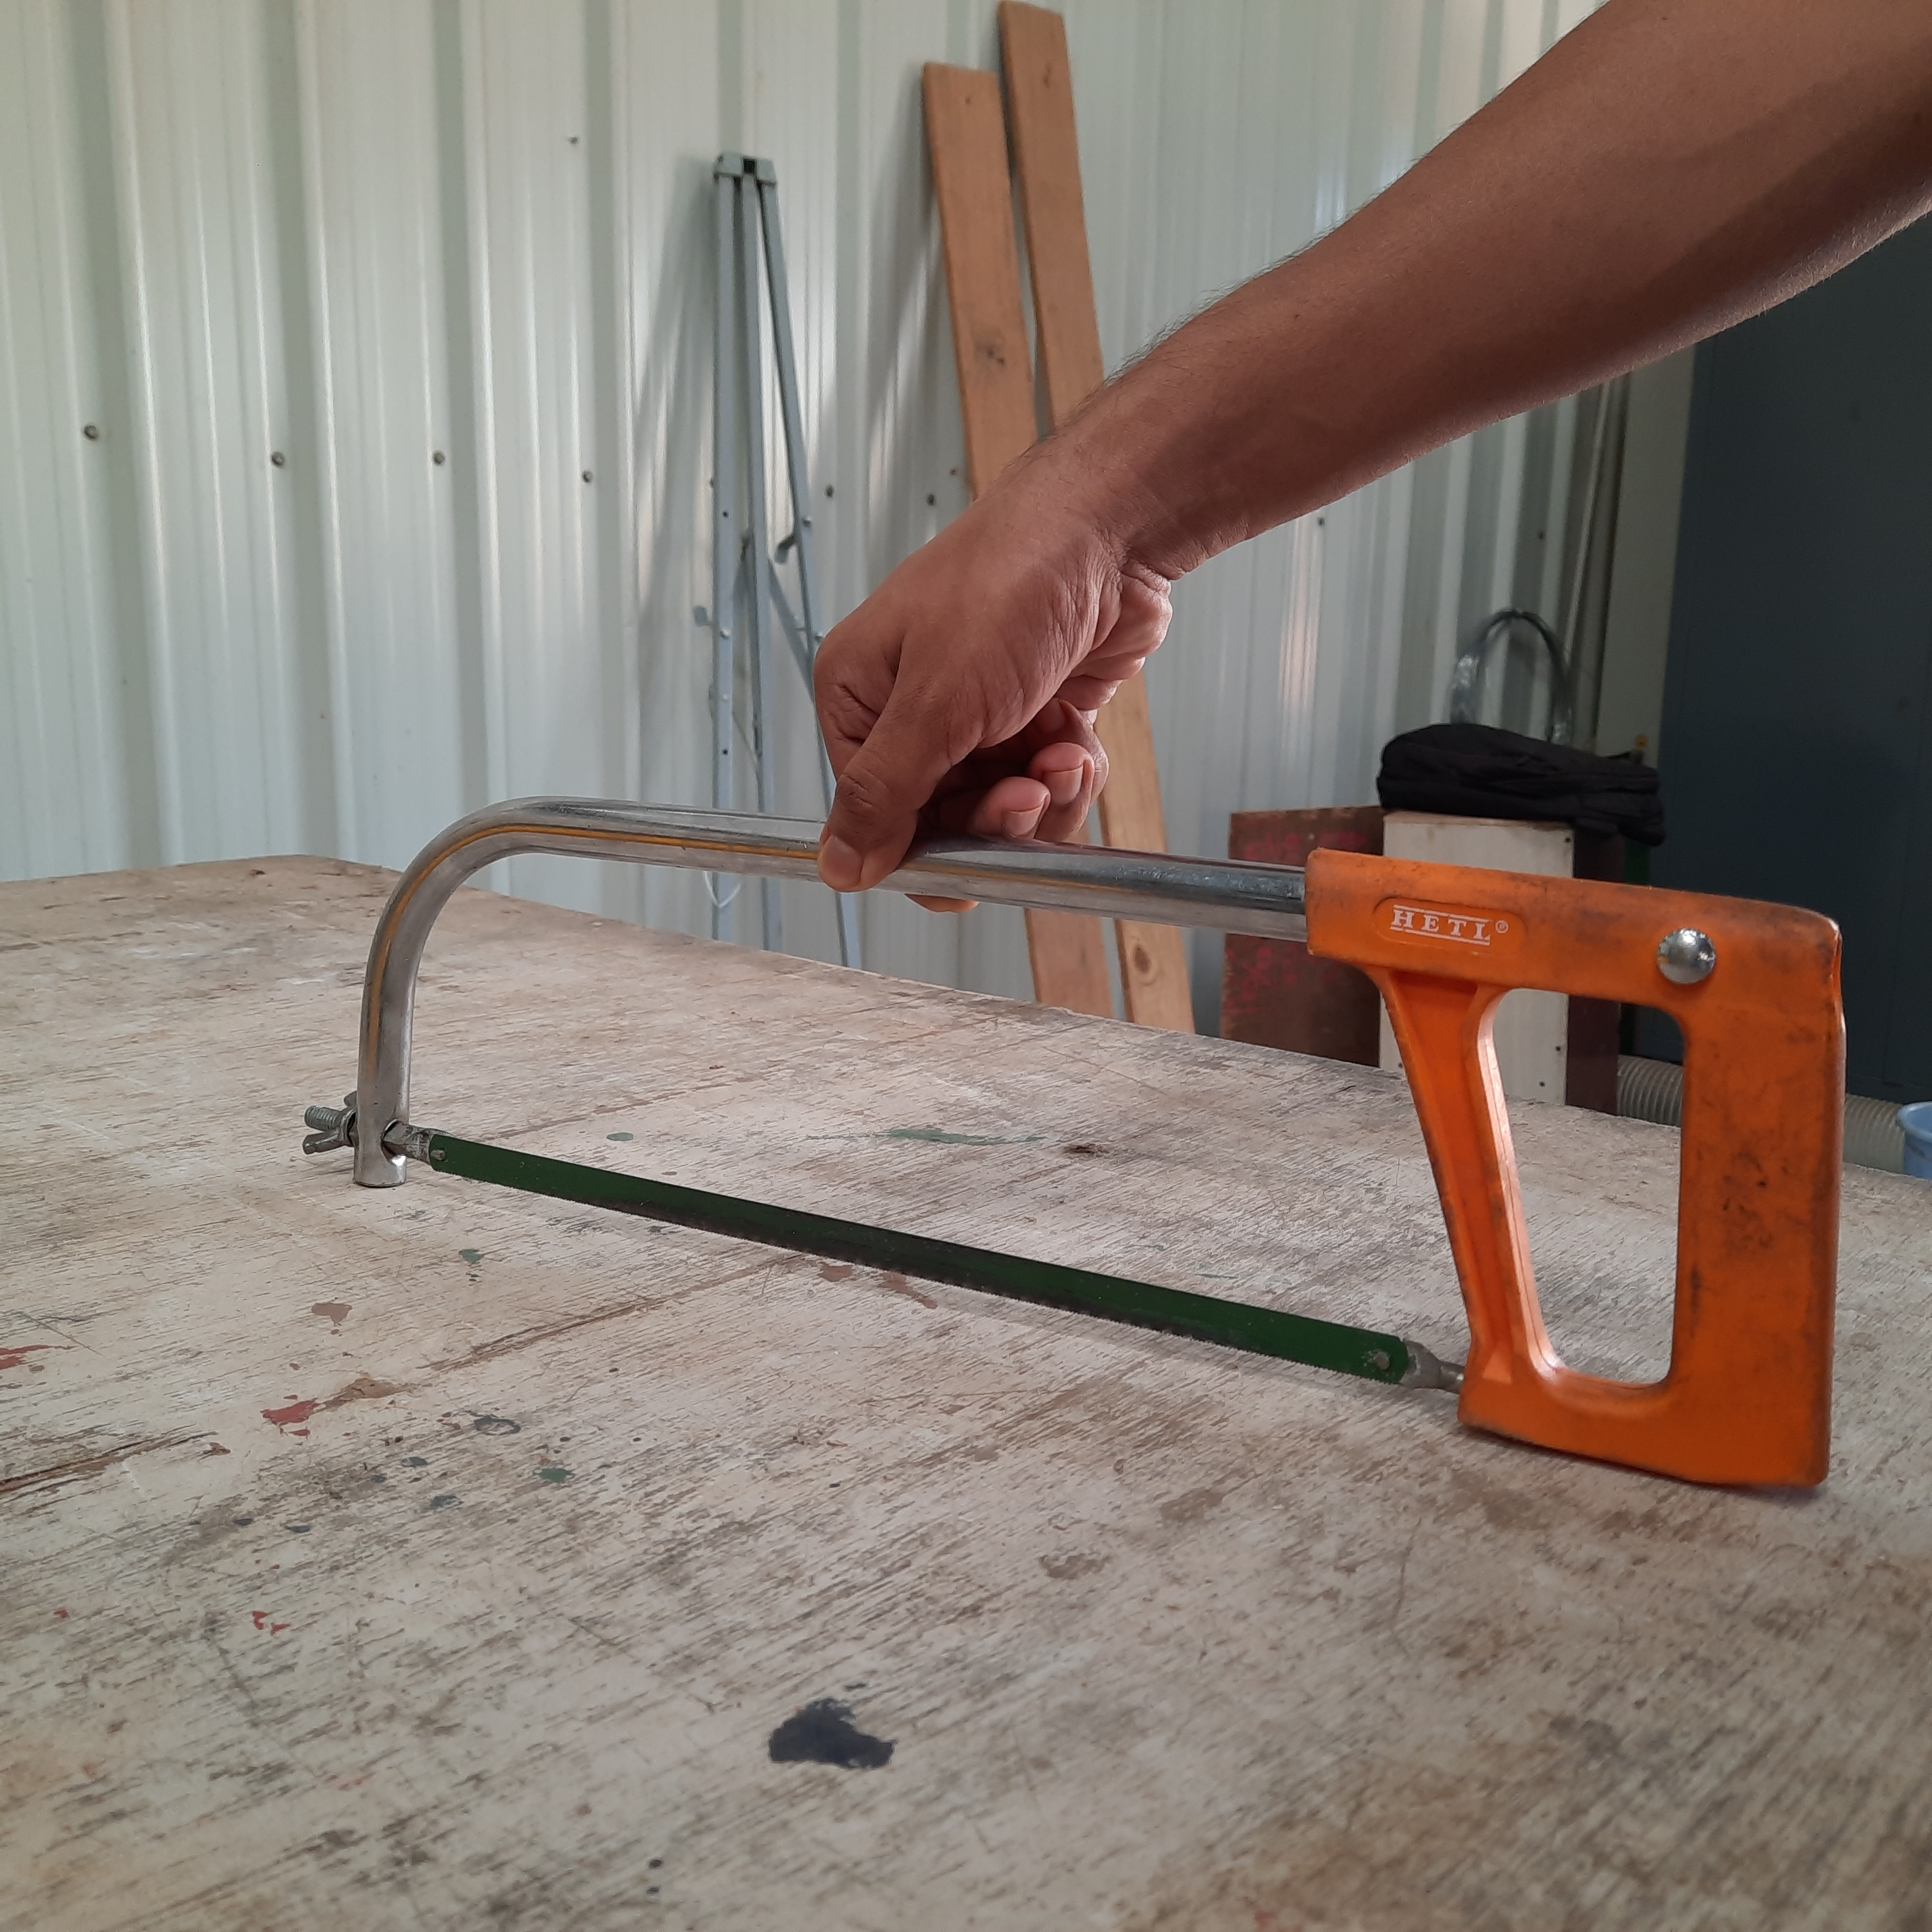Hexaframe: (313, 754, 1828, 1548)
